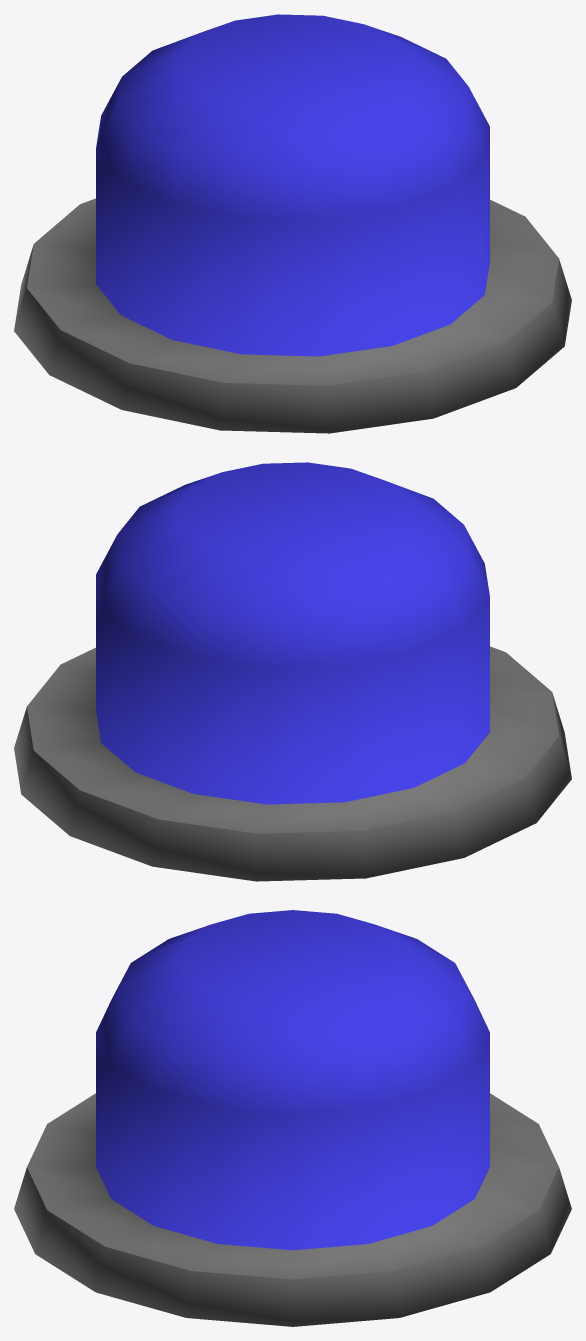
The model's file is headAlarmLightBlue.fbx.
3 renders of one model, top to bottom at view 1: azimuth 30°, elevation 25°; view 2: azimuth 150°, elevation 25°; view 3: azimuth 270°, elevation 25°, orthographic.
Parts seen in each view (by area): view 1: Head - Alarm Light Blue; view 2: Head - Alarm Light Blue; view 3: Head - Alarm Light Blue.
Boxes of the visible parts, <box> form: Head - Alarm Light Blue: <box>14,14,571,433</box>; Head - Alarm Light Blue: <box>14,462,571,881</box>; Head - Alarm Light Blue: <box>14,910,571,1326</box>.
Bounding box in the file's own units: 23.86 × 23.86 × 11.82.
